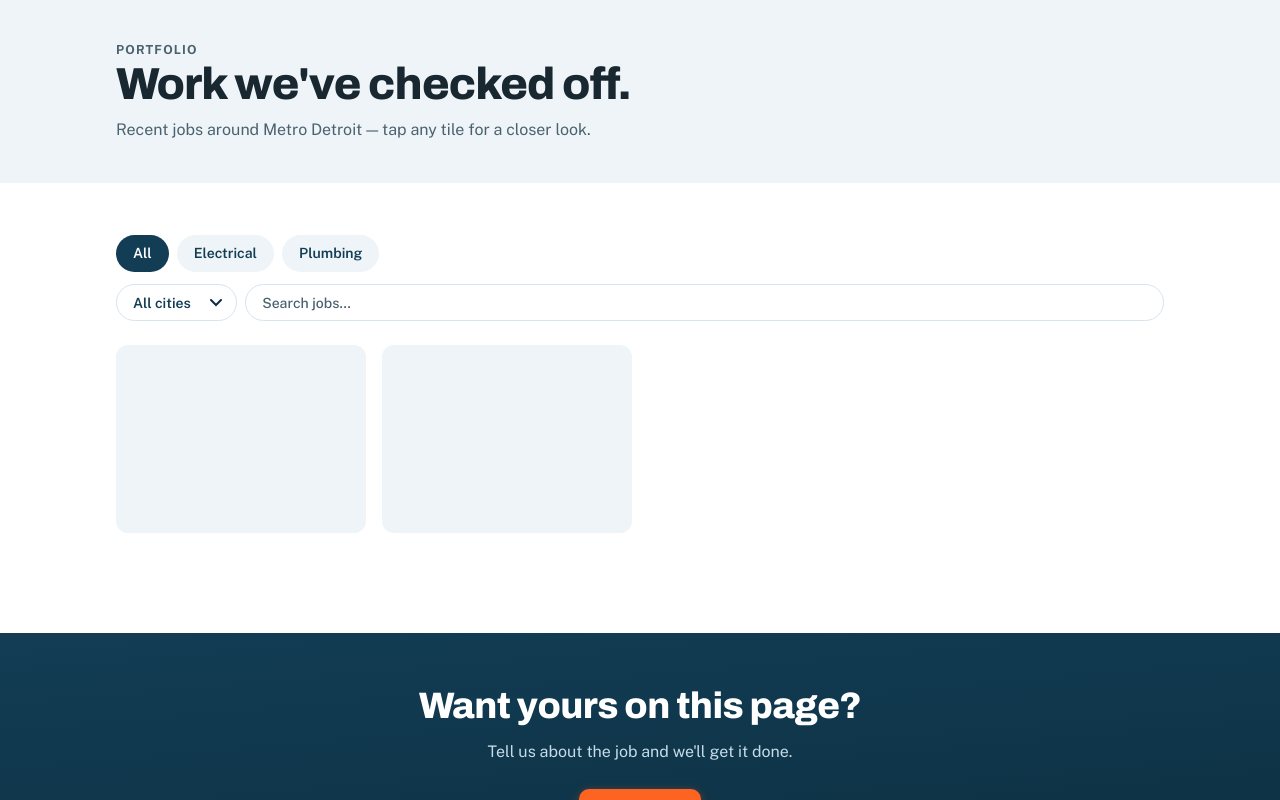
Test: city dropdown switches to that city feed
Select "Ann Arbor" in the dropdown named "Filter by city" at (177, 303), box [116,284,237,321]
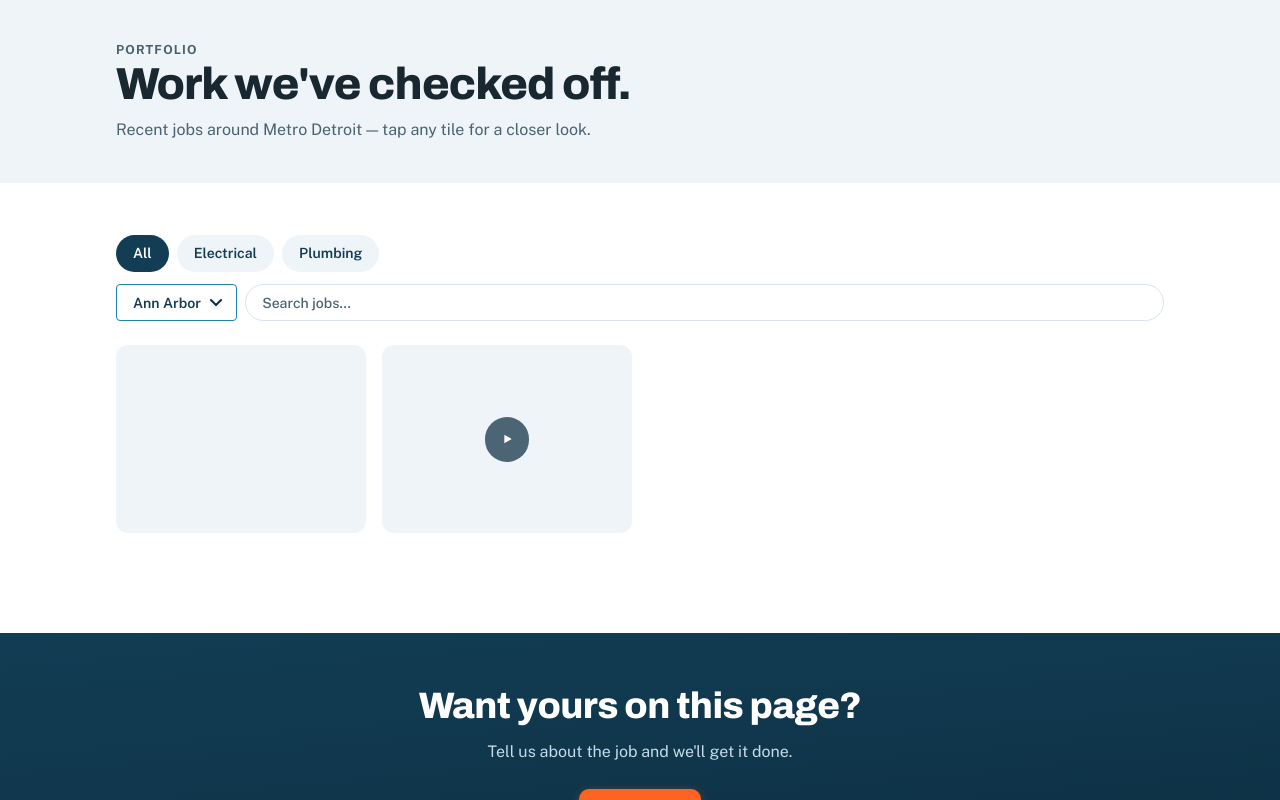
Check: the button named "Plumbing job in Ann Arbor, 2026-08-10 (video)" is shown, box [382,345,632,533]
